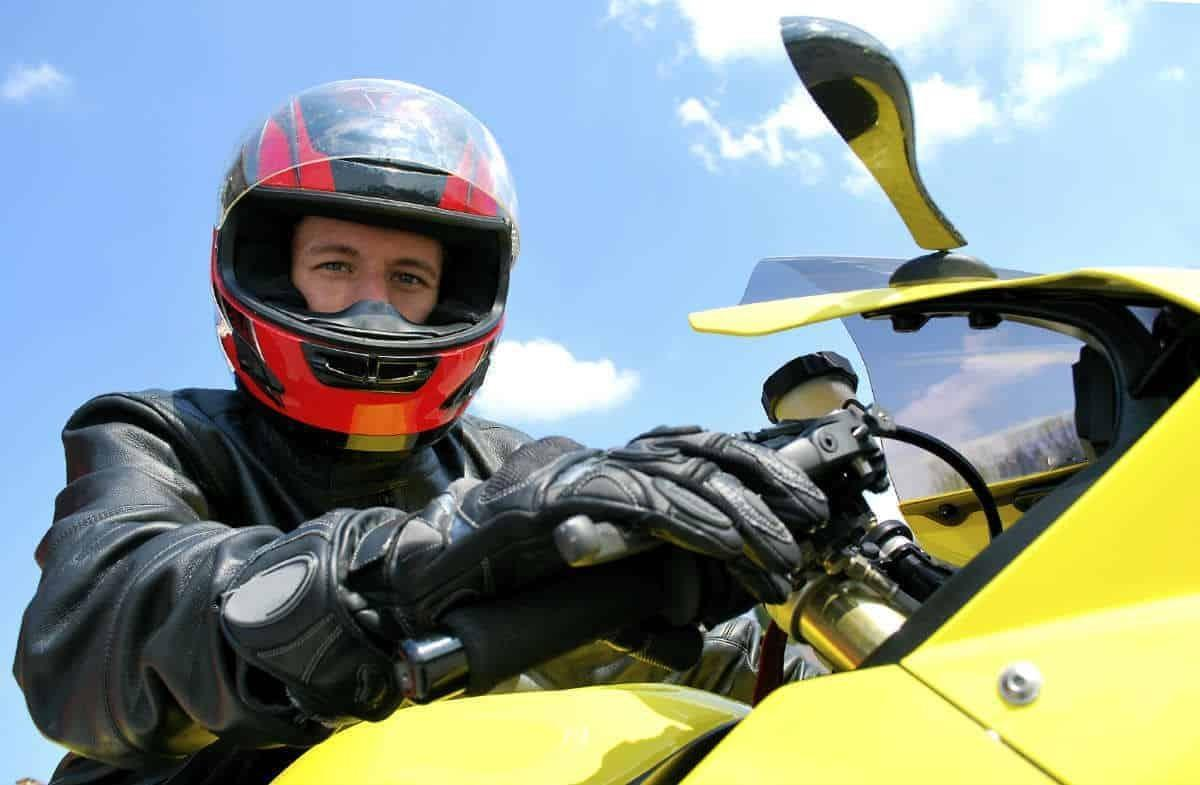helmet: (209, 77, 523, 462)
